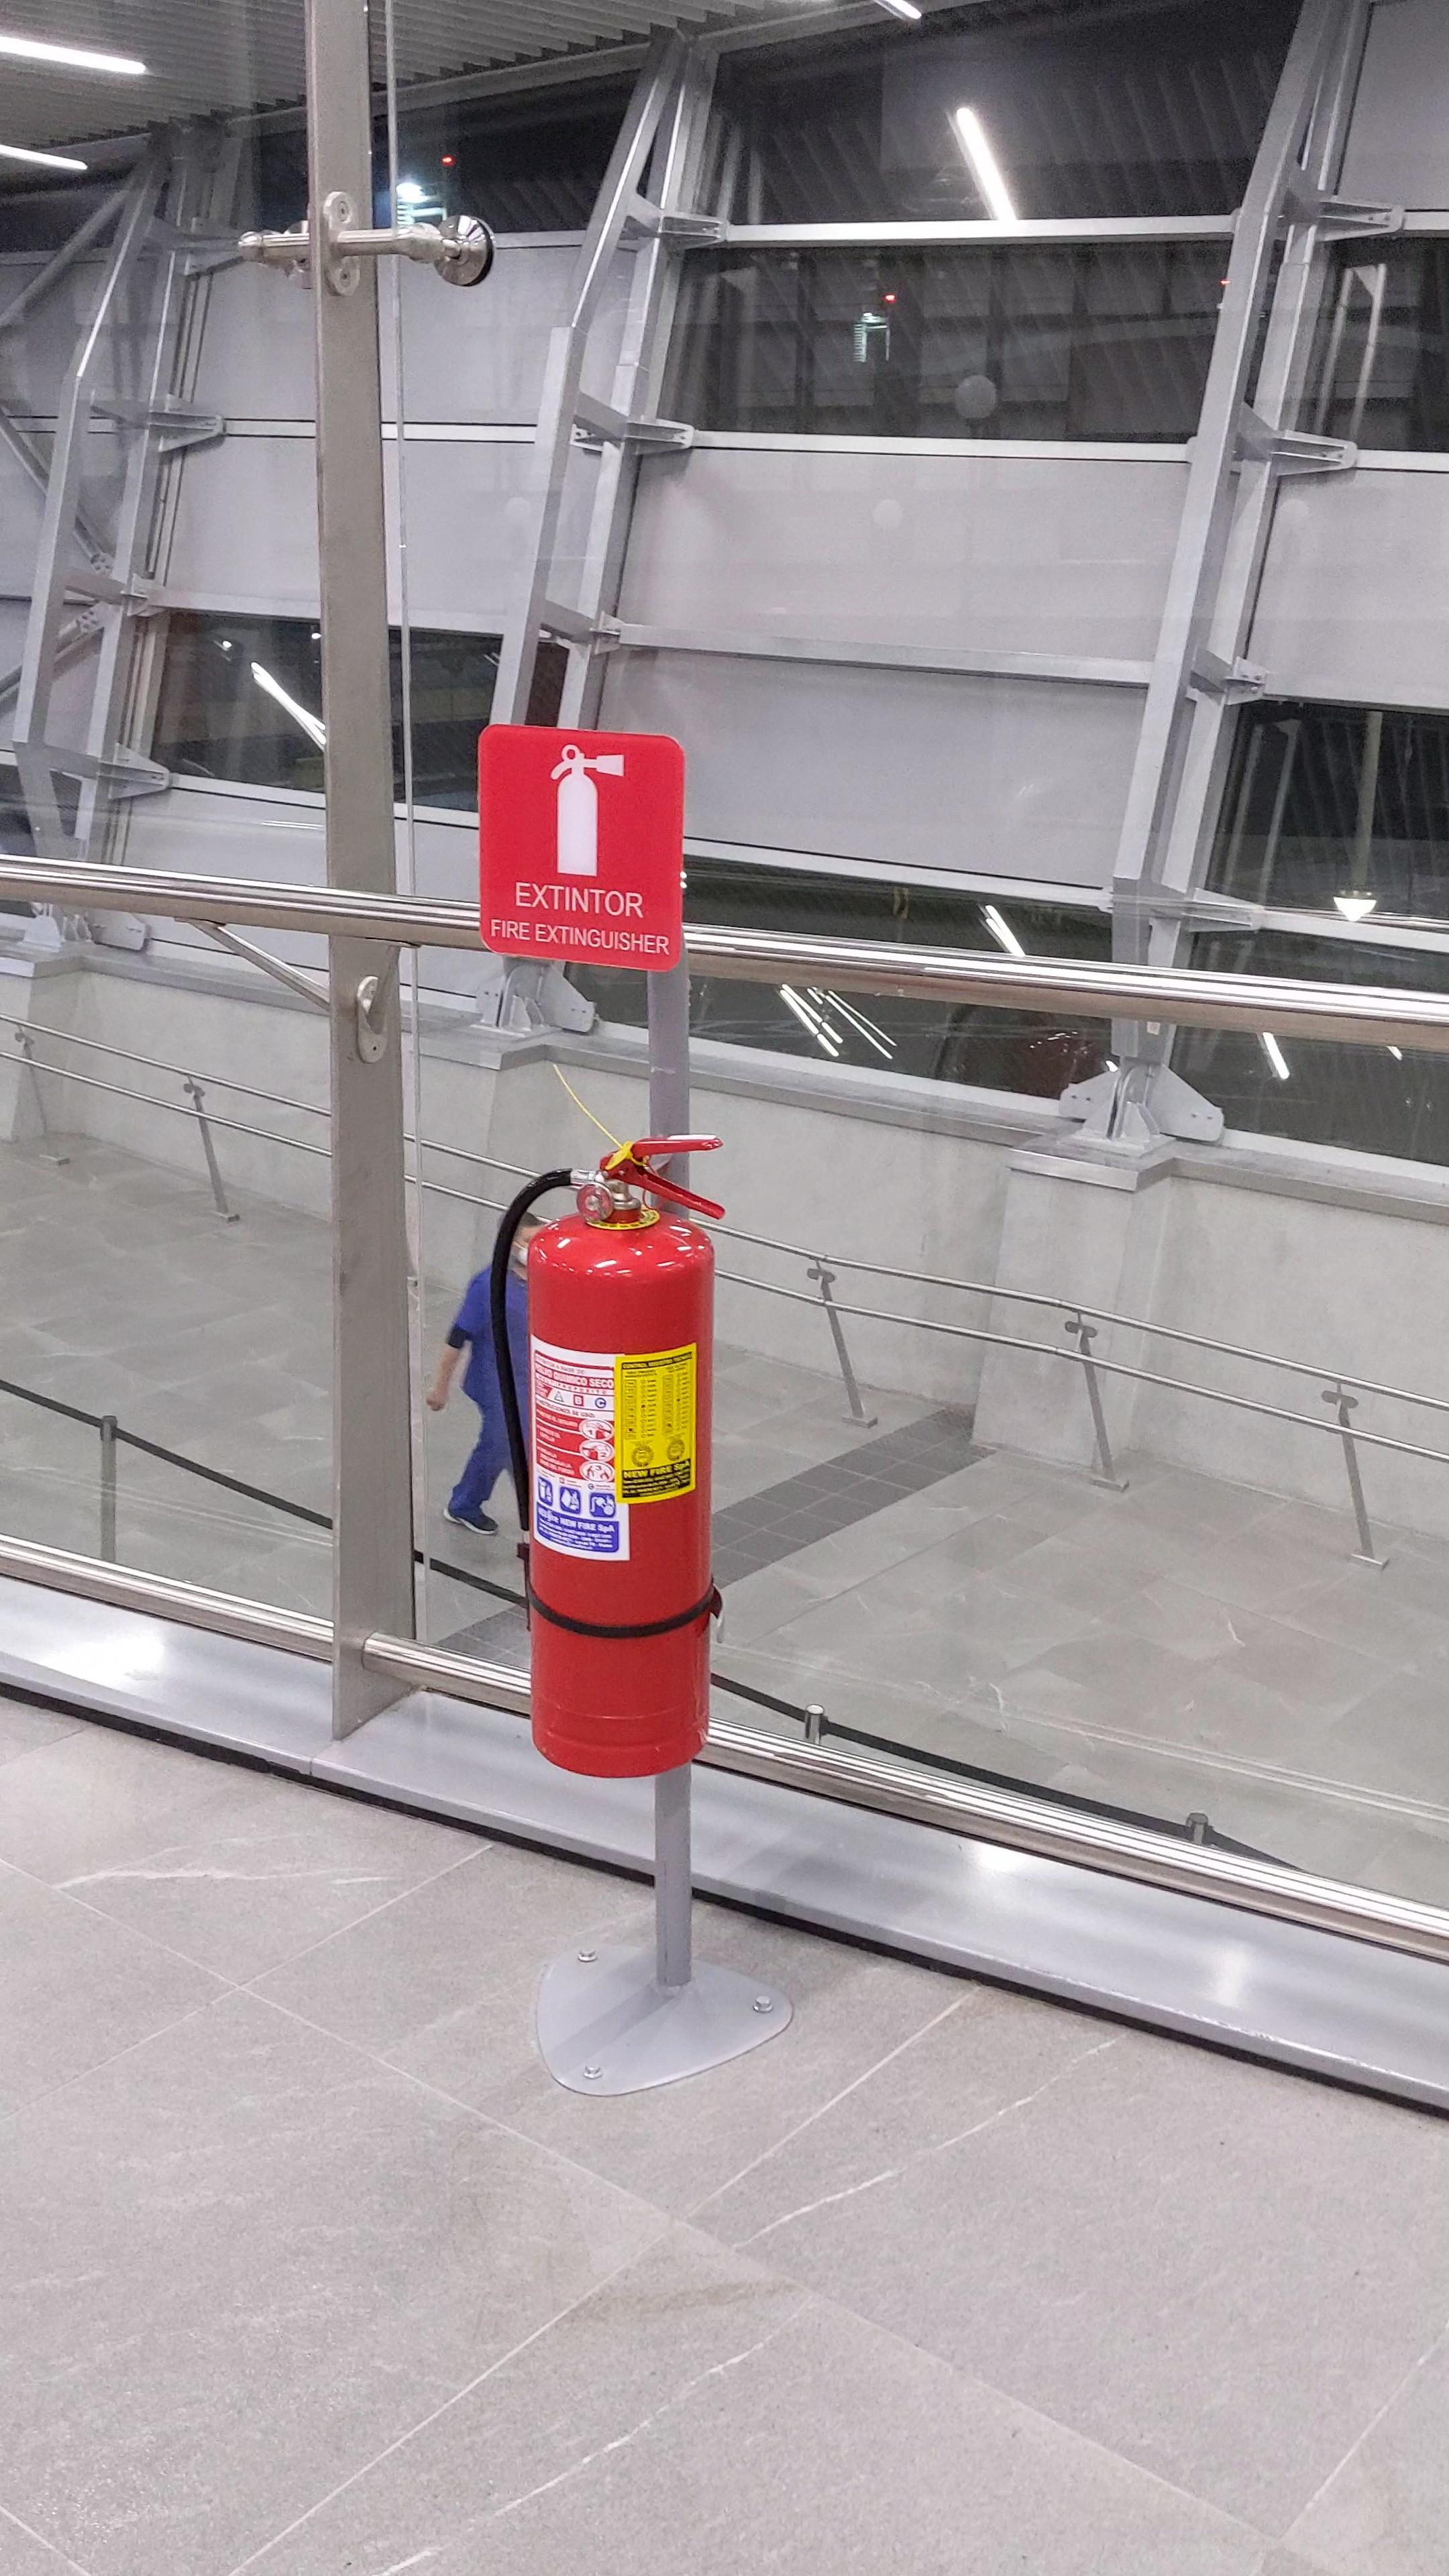extinguisher symbol: (547, 740, 632, 883)
fire-extinguisher: (476, 1122, 743, 1775)
